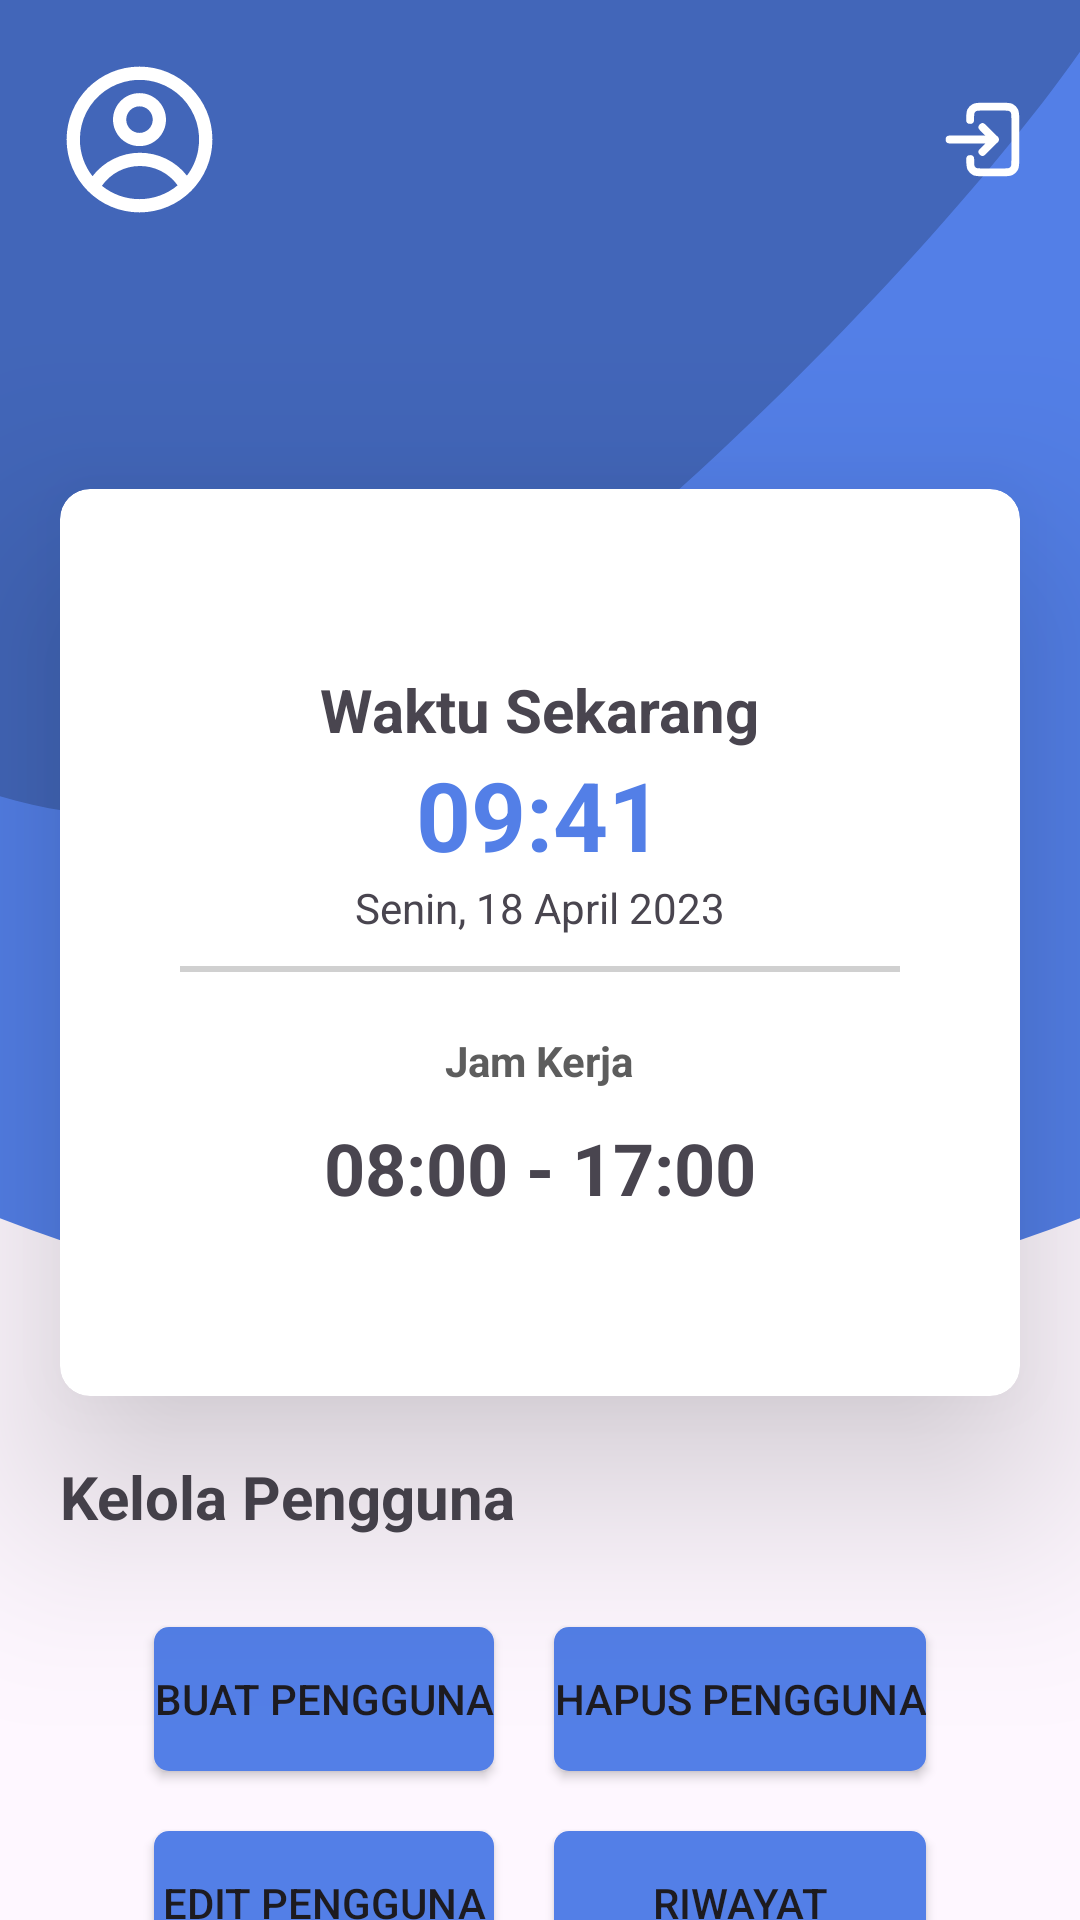

Screen size 1080 × 1920. Icon name, then its box in pixels as (x1, y1, x2, y2):
profile: (66, 66, 213, 213)
